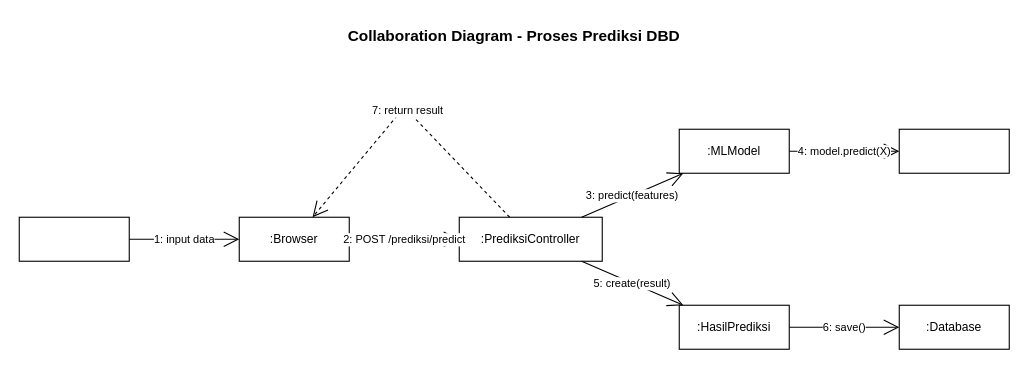
Image size: 1029x369. Some labels were removed from this diagram. The shapes that lost their labels are listed below. From the top down, each one's centre as x and y in pixels, then its label:
At point 953,150: ":RandomForest".
At point 73,238: ":User".
